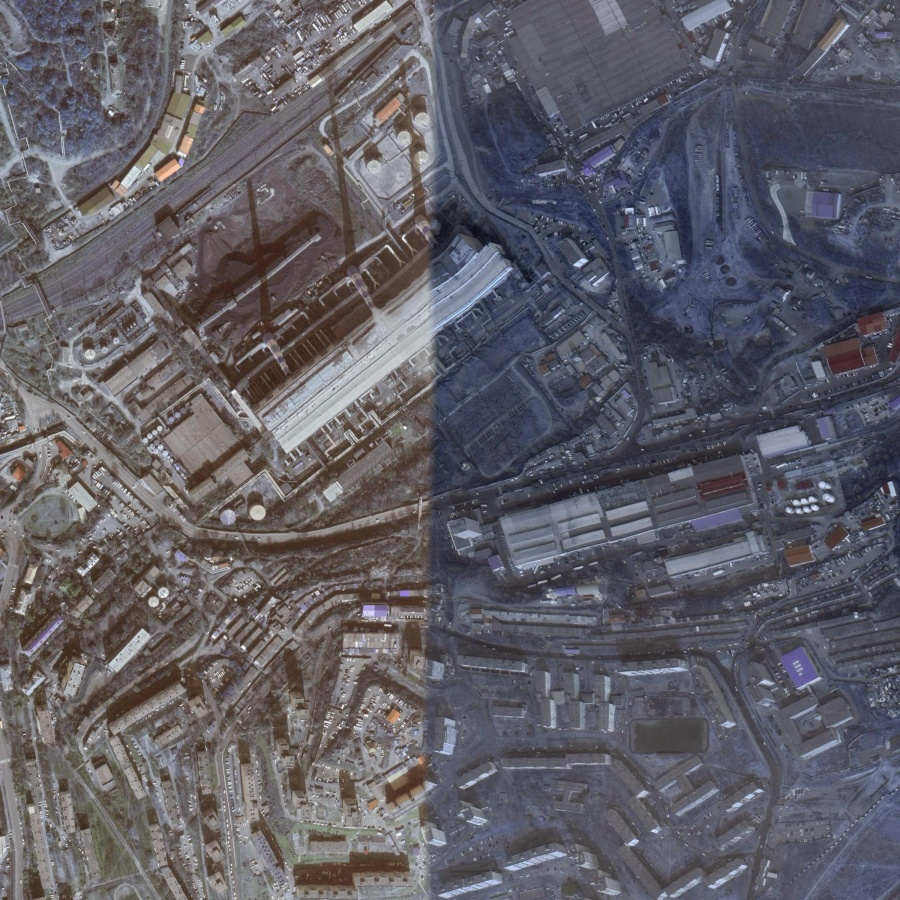PowerPlant: (181, 88, 508, 456)
